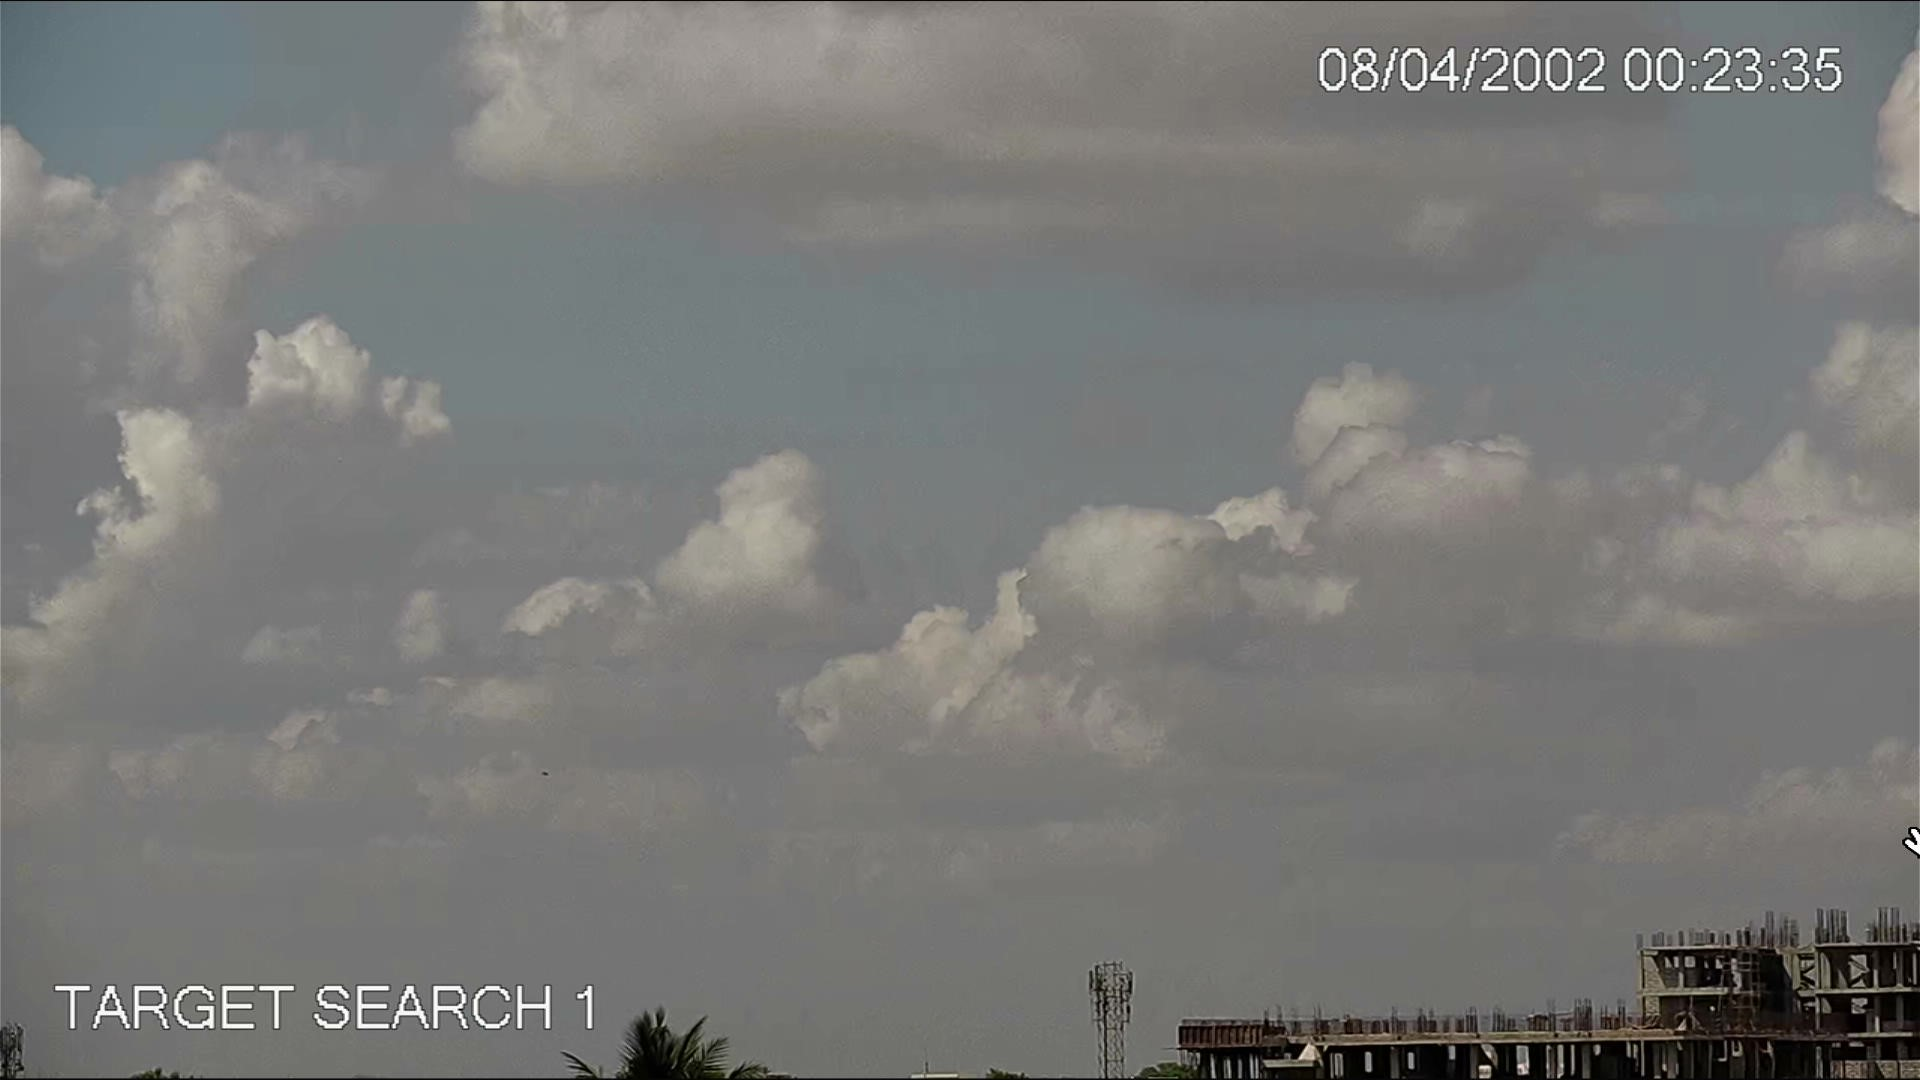SU_30: (531, 765, 553, 781)
